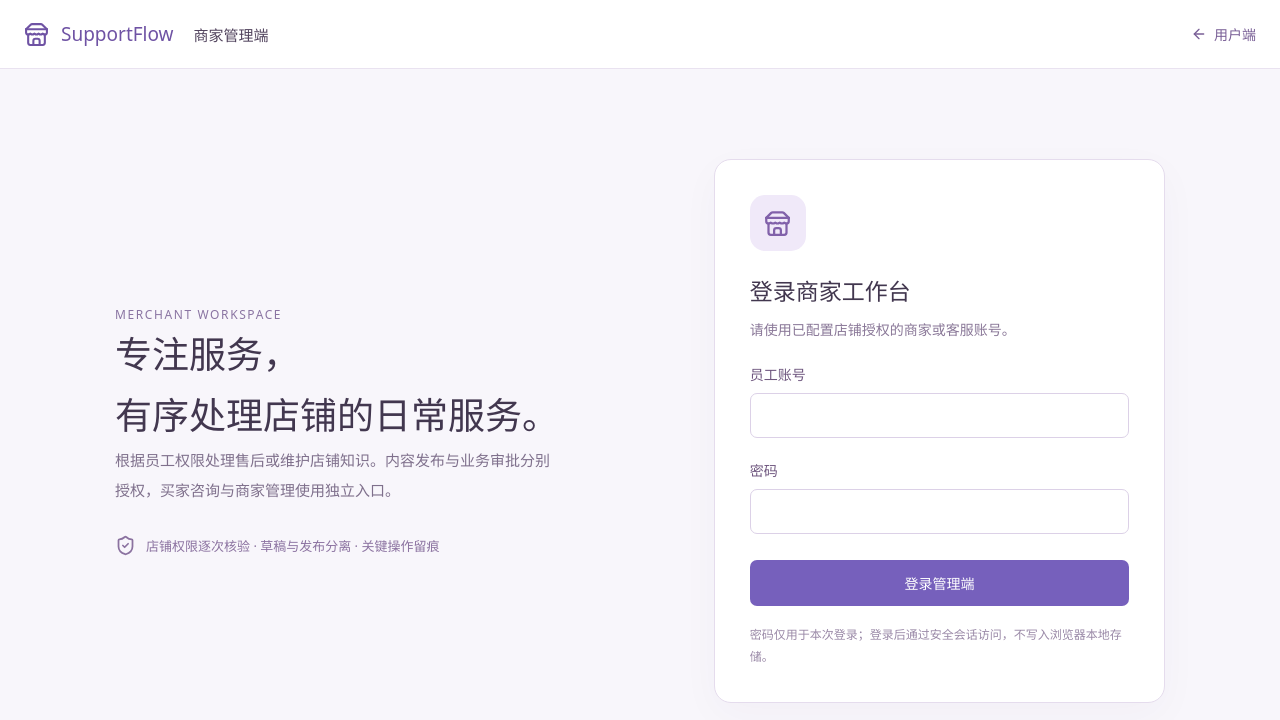
Test: MerchantApp › renders an explicit no-permission state without a queue or arbitrary shop input
Type "staff" into the field with test id "merchant-username".
click(939, 416); type("staff")  # box top-left (750, 393), bottom-right (1129, 438)
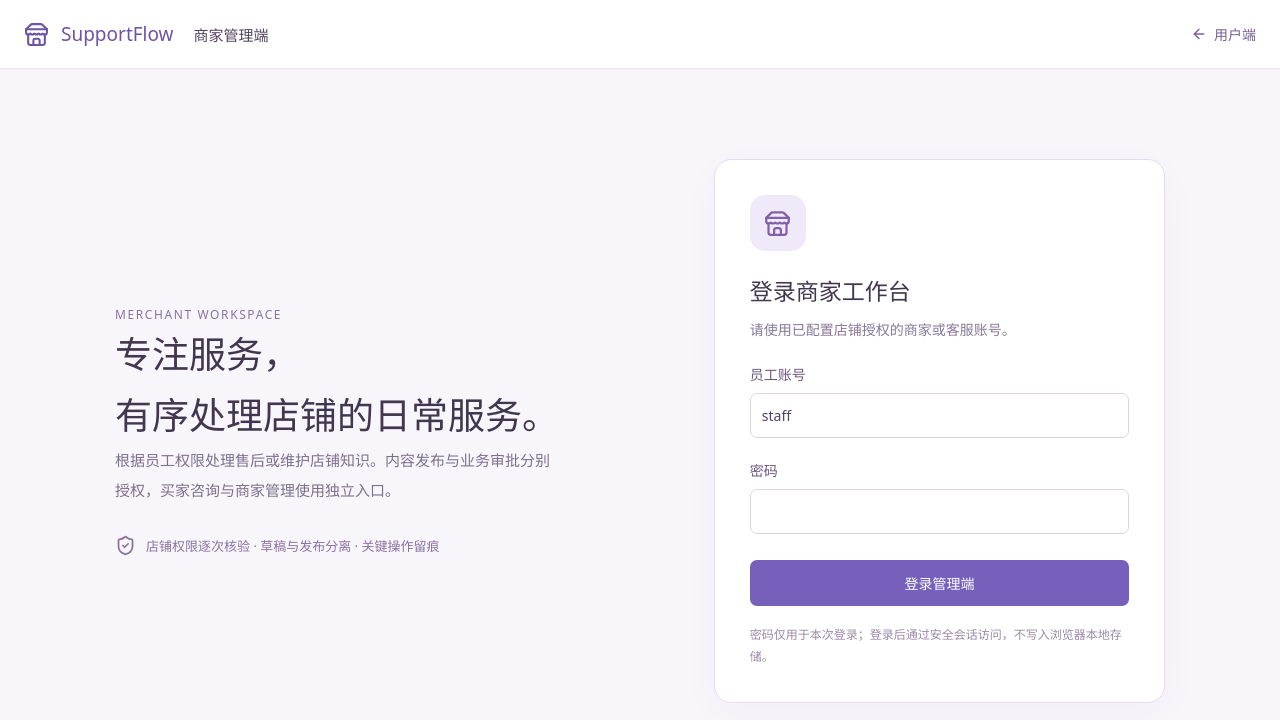
Type "test" into the password field with test id "merchant-password".
click(939, 512); type("test")  # box top-left (750, 489), bottom-right (1129, 534)
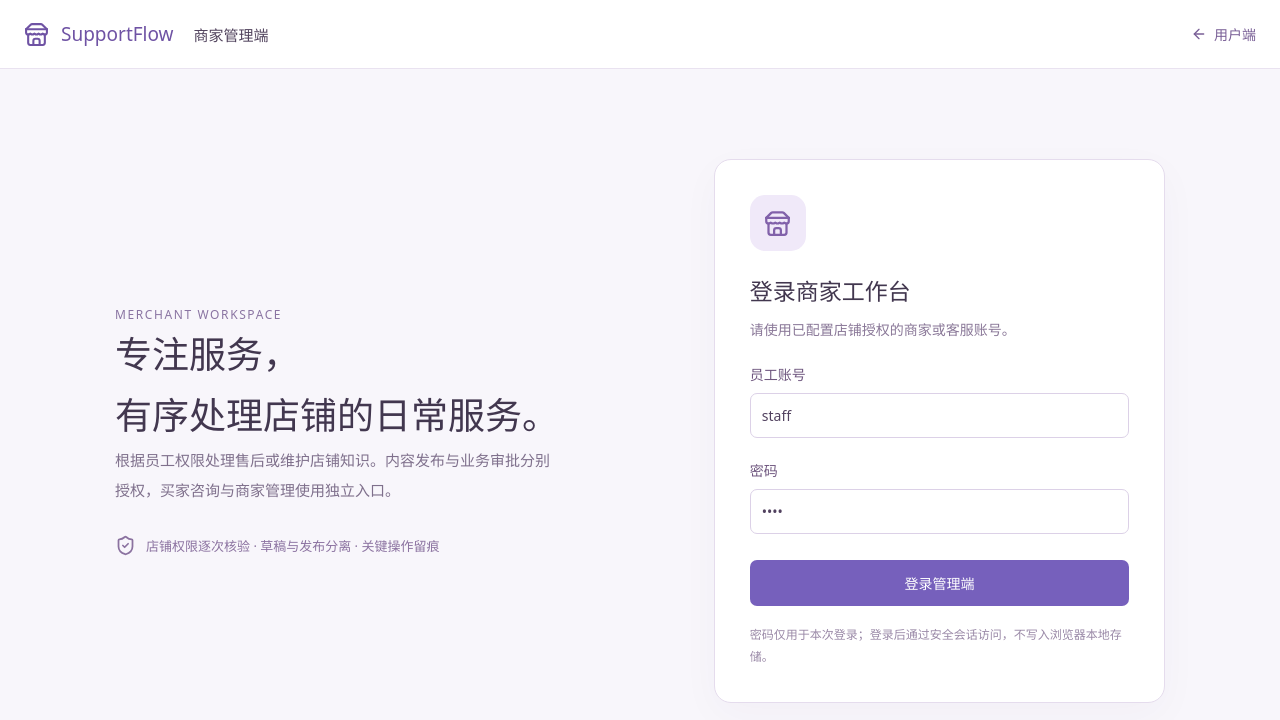
Submit the form with test id "merchant-login", box top-left (714, 159), bottom-right (1165, 703)
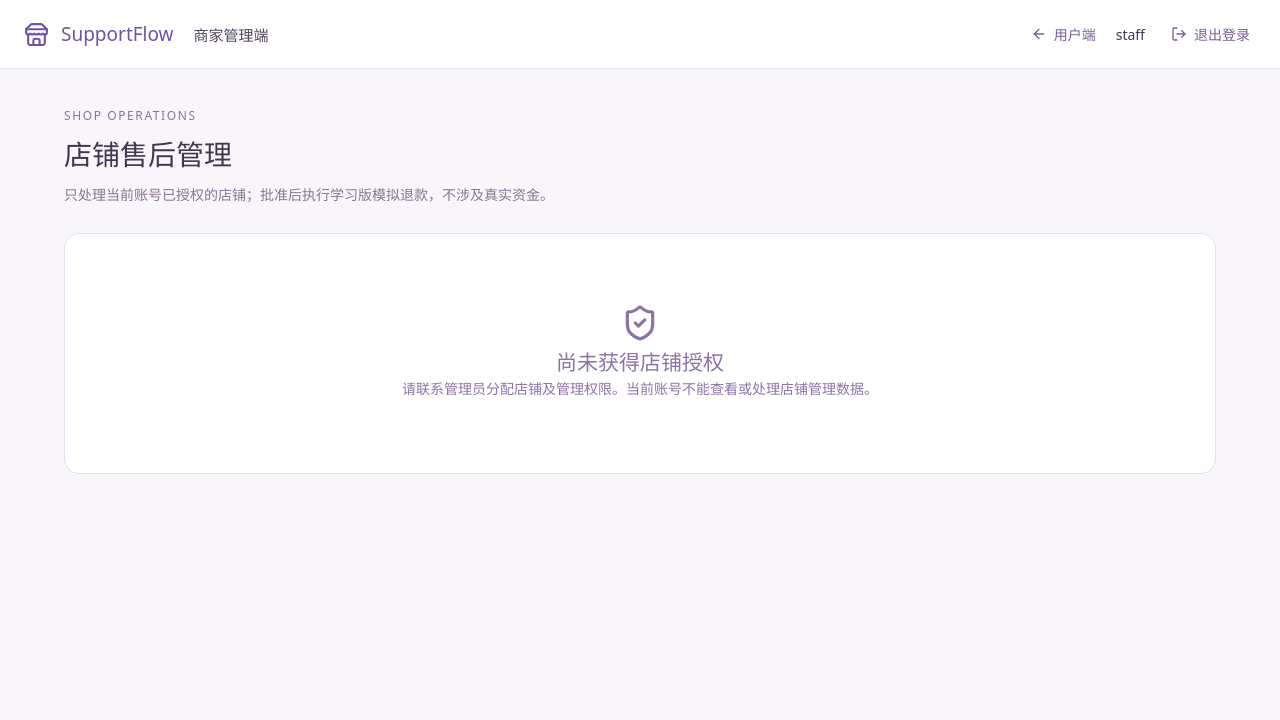
Result: the element with test id "merchant-no-shops" shows "尚未获得店铺授权" at top-left (556, 348), bottom-right (724, 376)
